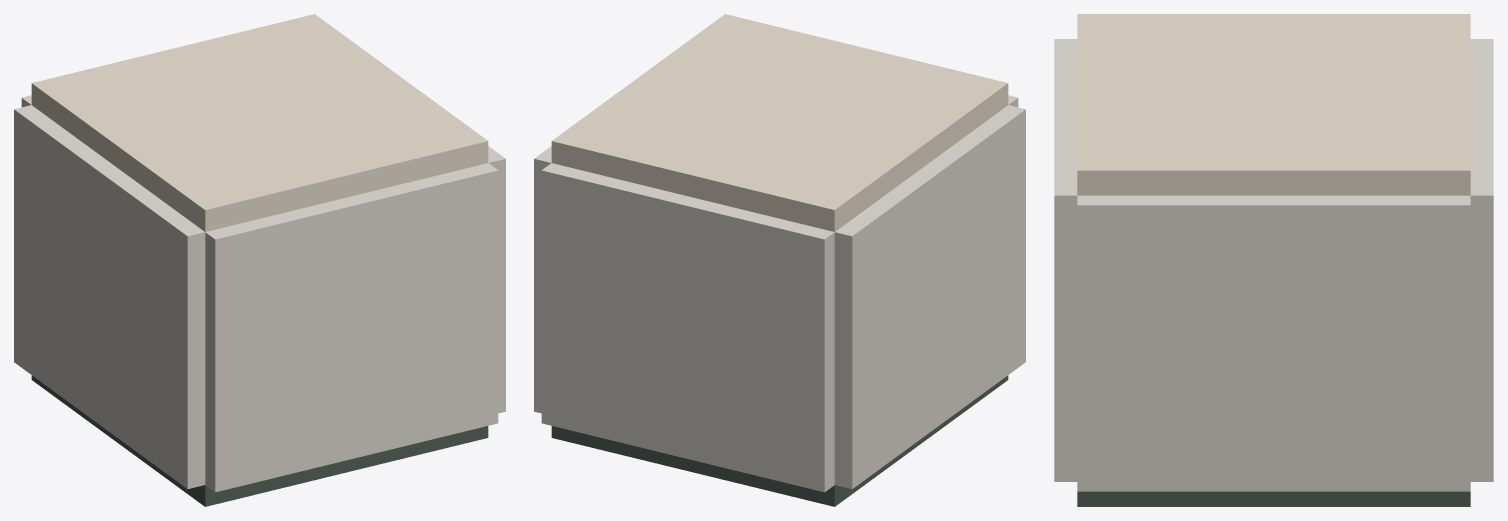
3 views of the same model, side by side, from view 1: azimuth 30°, elevation 25°; view 2: azimuth 150°, elevation 25°; view 3: azimuth 270°, elevation 25° (orthographic). The views are drawn at different scales.
Visible parts, largest first — view 1: Wall_01, Ceiling, Wall_04, Floor, Wall_02; view 2: Wall_03, Ceiling, Wall_04, Floor, Wall_02; view 3: Wall_02, Ceiling, Wall_01, Wall_03, Floor.
Boxes of the visible parts, x1,y1,x2,y2 form: Wall_01: [205, 163, 498, 492]; Ceiling: [31, 14, 488, 231]; Wall_04: [14, 105, 205, 488]; Floor: [31, 375, 488, 506]; Wall_02: [488, 146, 505, 413]; Wall_03: [541, 163, 834, 492]; Ceiling: [551, 14, 1008, 231]; Wall_04: [834, 105, 1025, 488]; Floor: [551, 375, 1008, 506]; Wall_02: [534, 146, 551, 413]; Wall_02: [1077, 195, 1470, 491]; Ceiling: [1077, 14, 1470, 195]; Wall_01: [1054, 39, 1077, 481]; Wall_03: [1470, 39, 1493, 481]; Floor: [1077, 491, 1470, 506].
Bounding box in the file's own units: 4.55 × 4.06 × 4.8.
